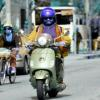motorcycles: (24, 37, 64, 100)
